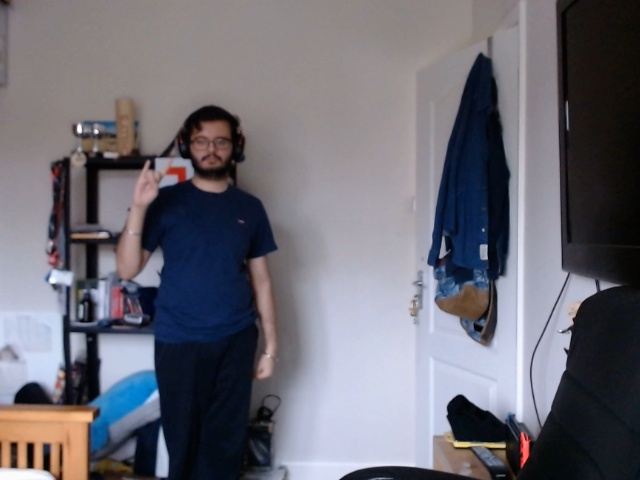Rock on: (118, 149, 185, 214)
